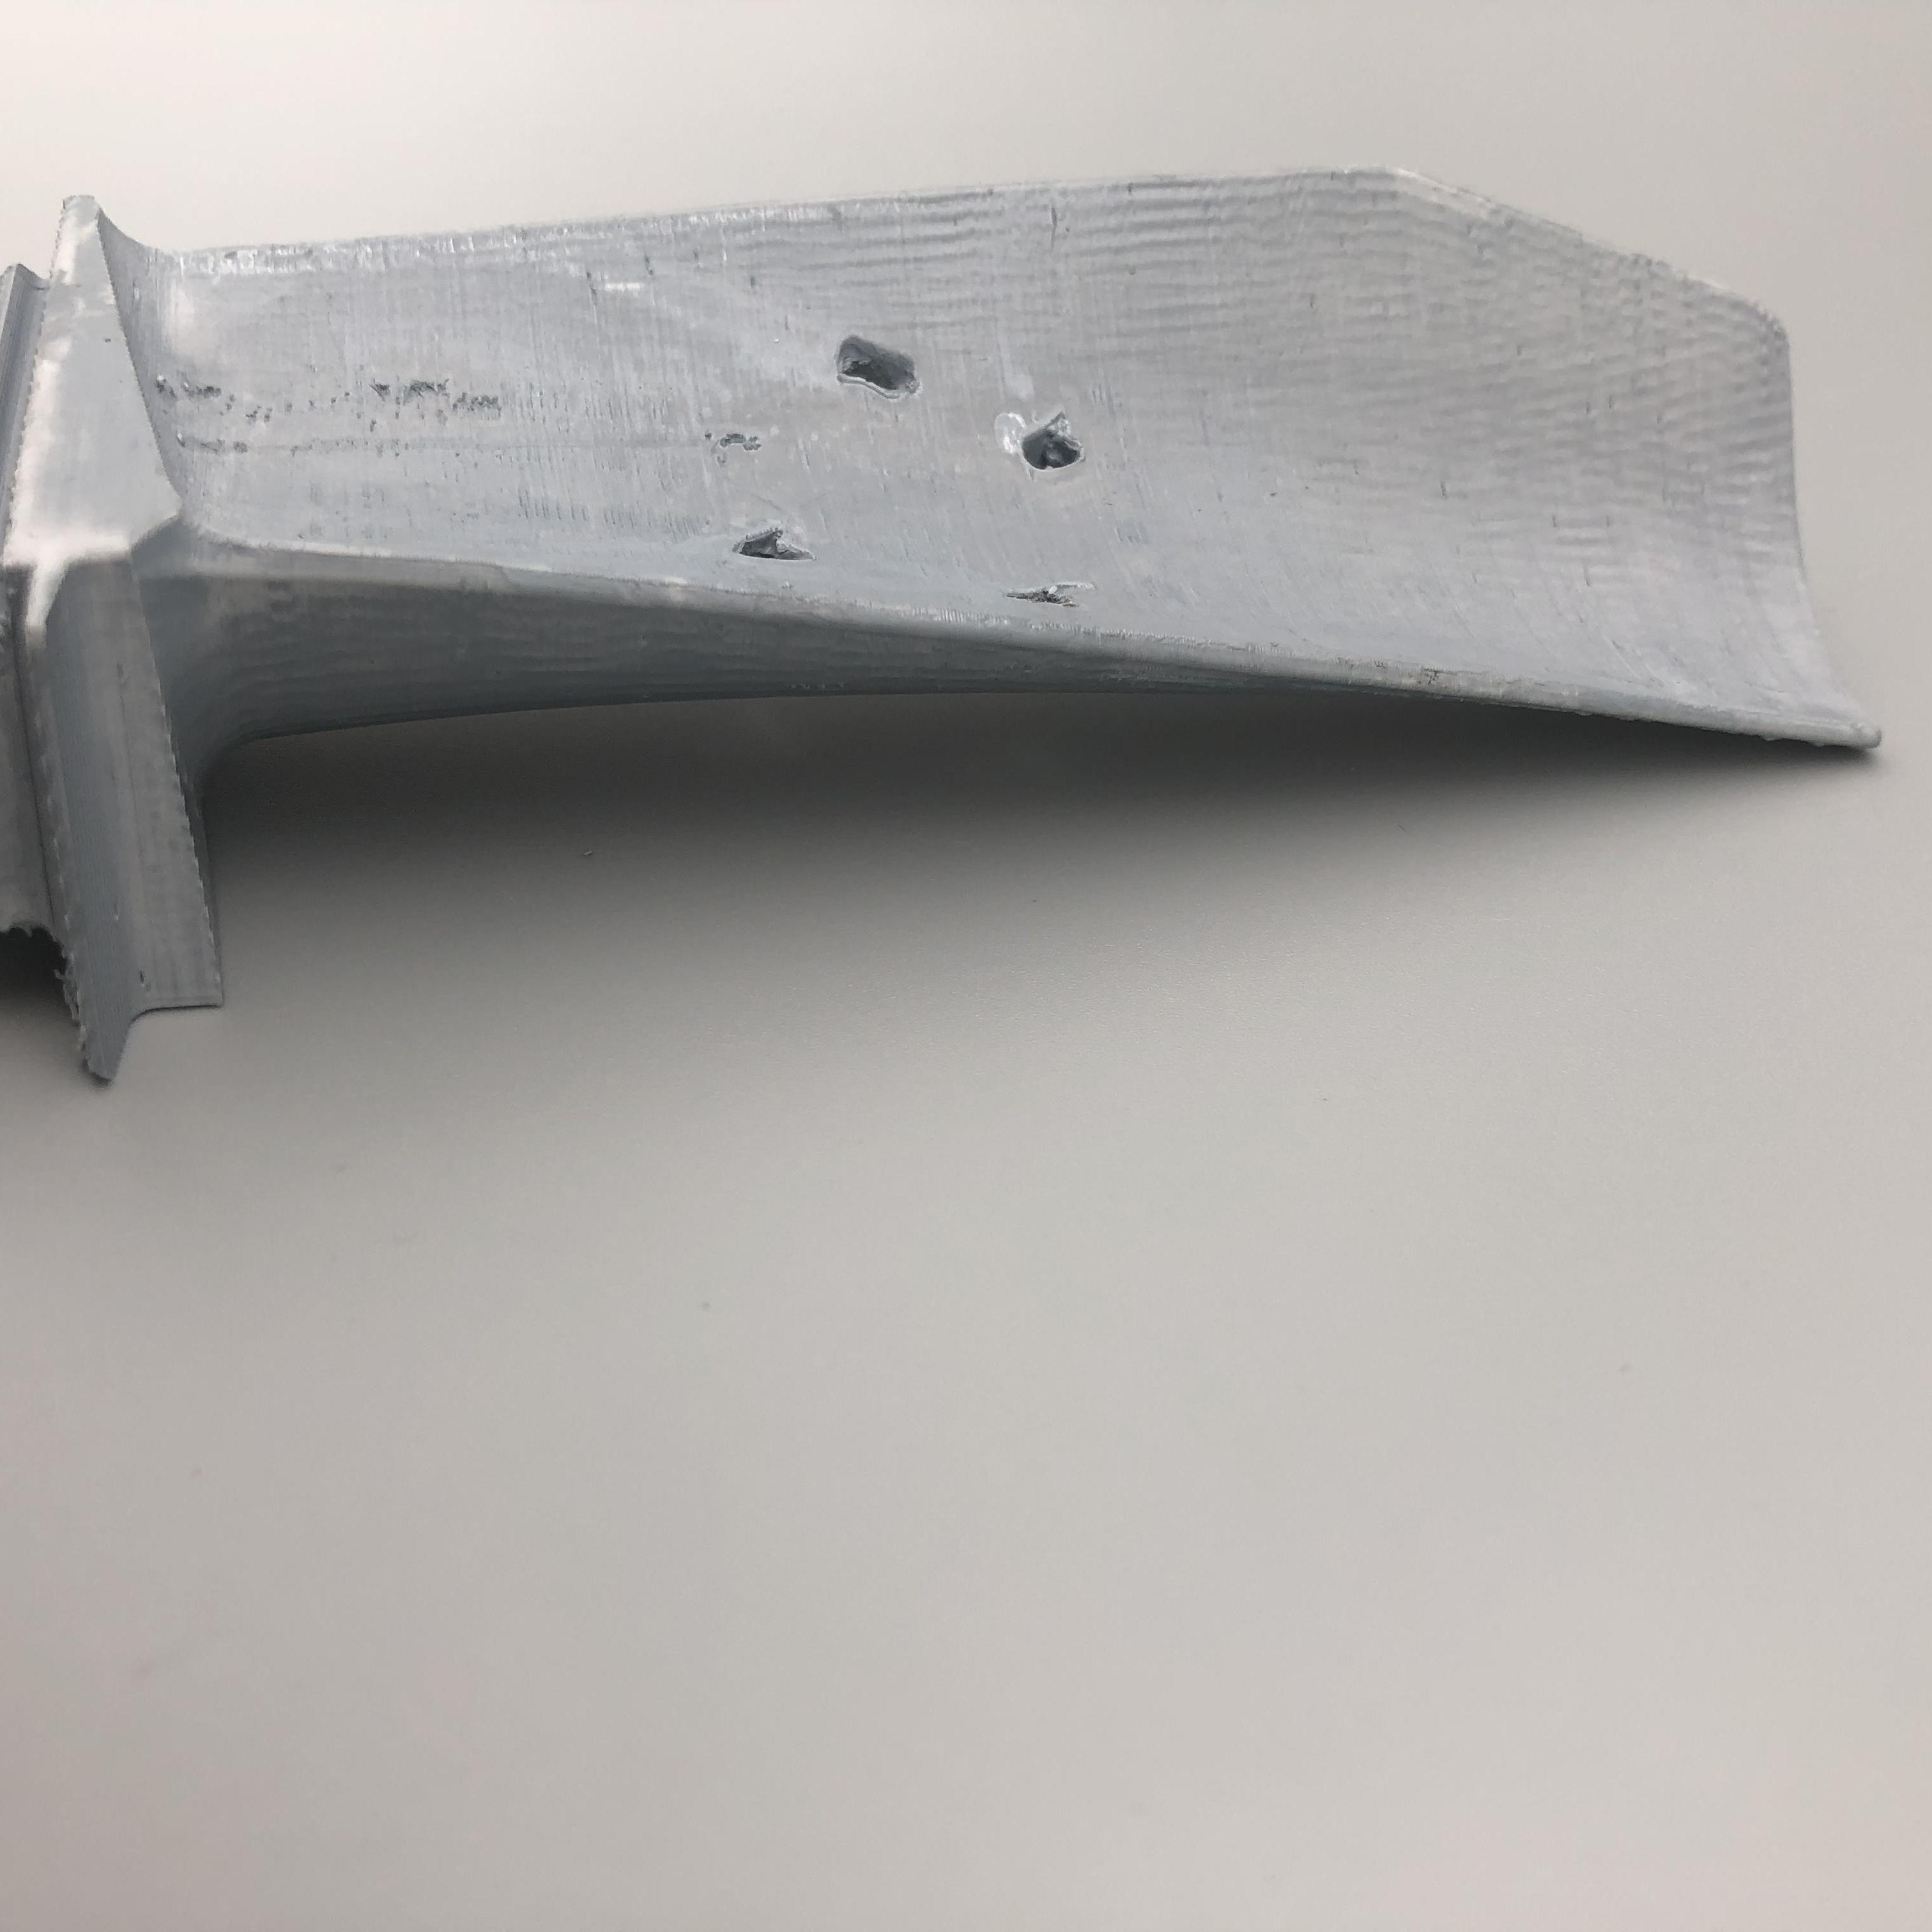breakdown: (740, 329, 1102, 617)
